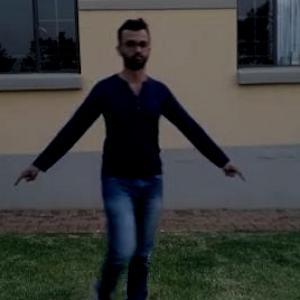land: (39, 32, 220, 299)
